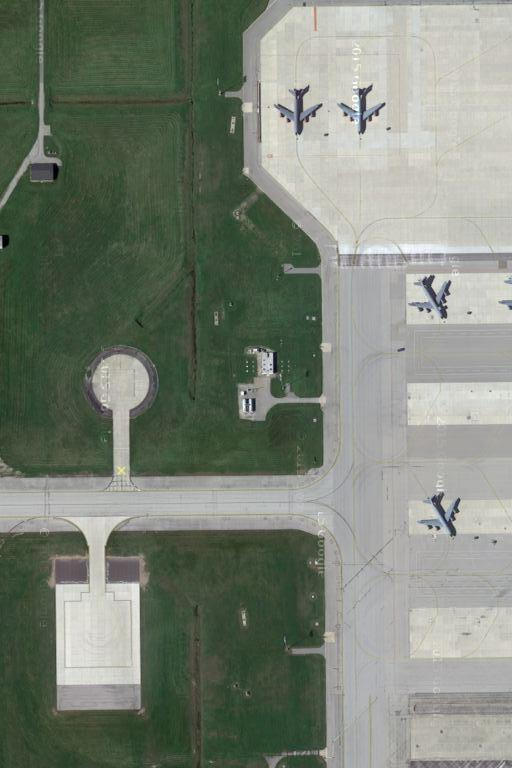KC-135: (273, 82, 325, 141), (338, 82, 389, 139), (408, 275, 459, 319), (417, 492, 463, 540)
